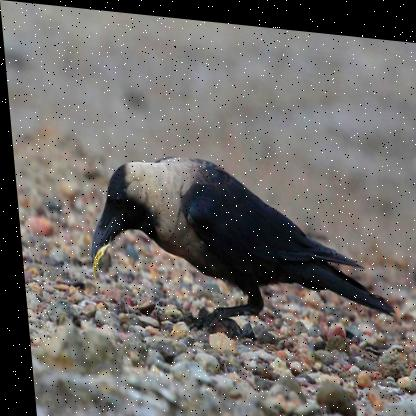Burung: (80, 146, 394, 357)
